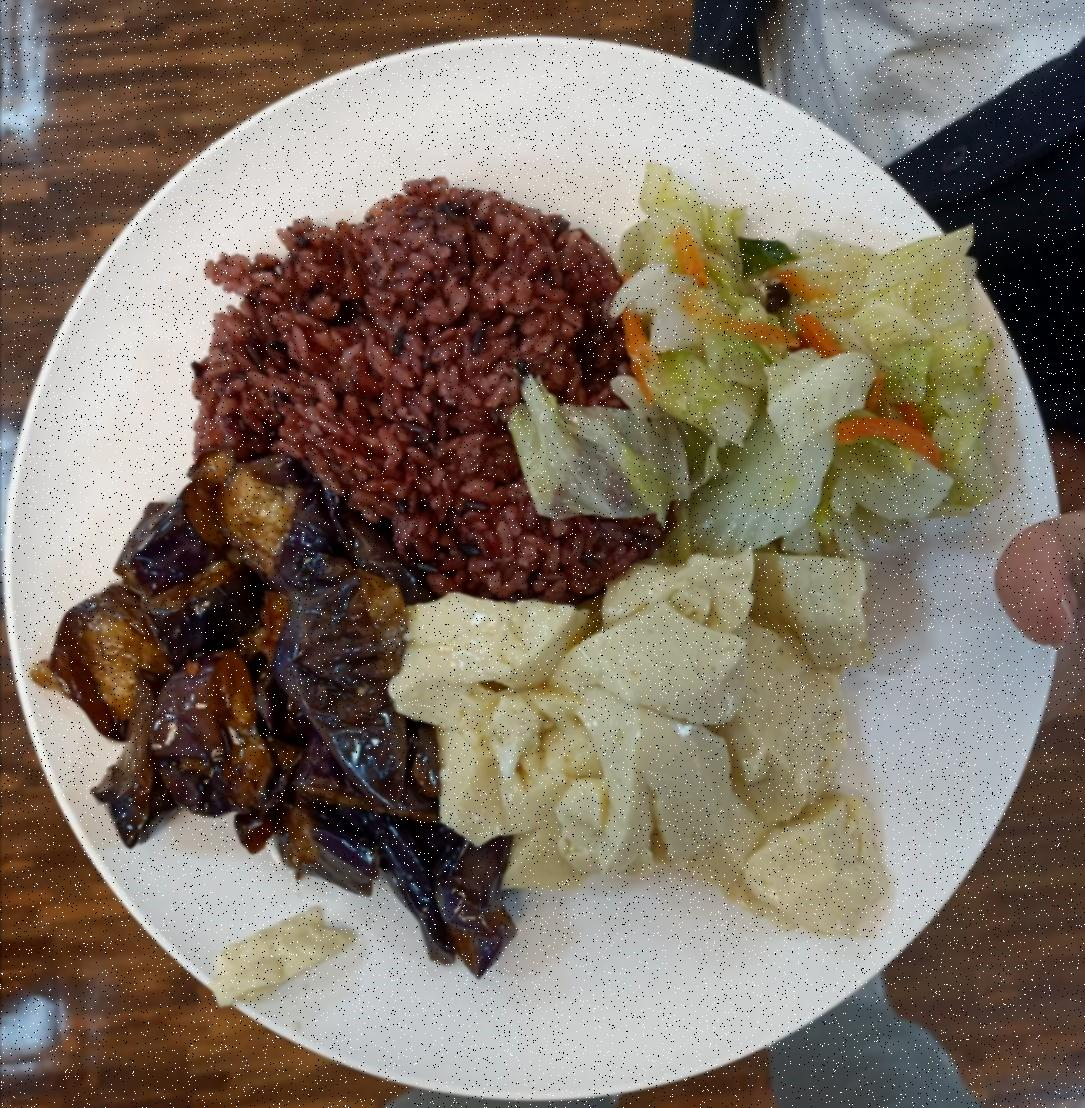big fried chicken leg: (2, 30, 1068, 1104)
braised fish: (194, 171, 648, 576)
braised fish fillet: (426, 561, 913, 923), (602, 171, 983, 543), (95, 498, 434, 884)
